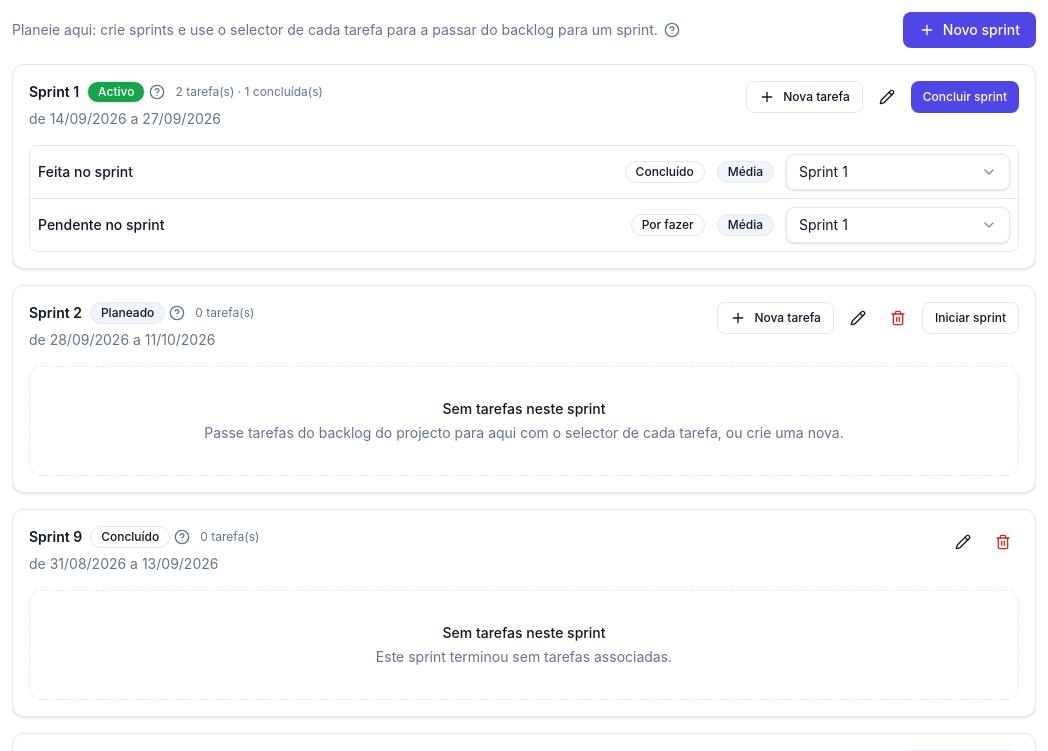
Test: BacklogView › "Iniciar sprint" mostra o erro 422 da API quando já existe um sprint activo
This screenshot has width=1048, height=751.
Click the button "Iniciar sprint" at (970,318), box [922,302,1019,334]
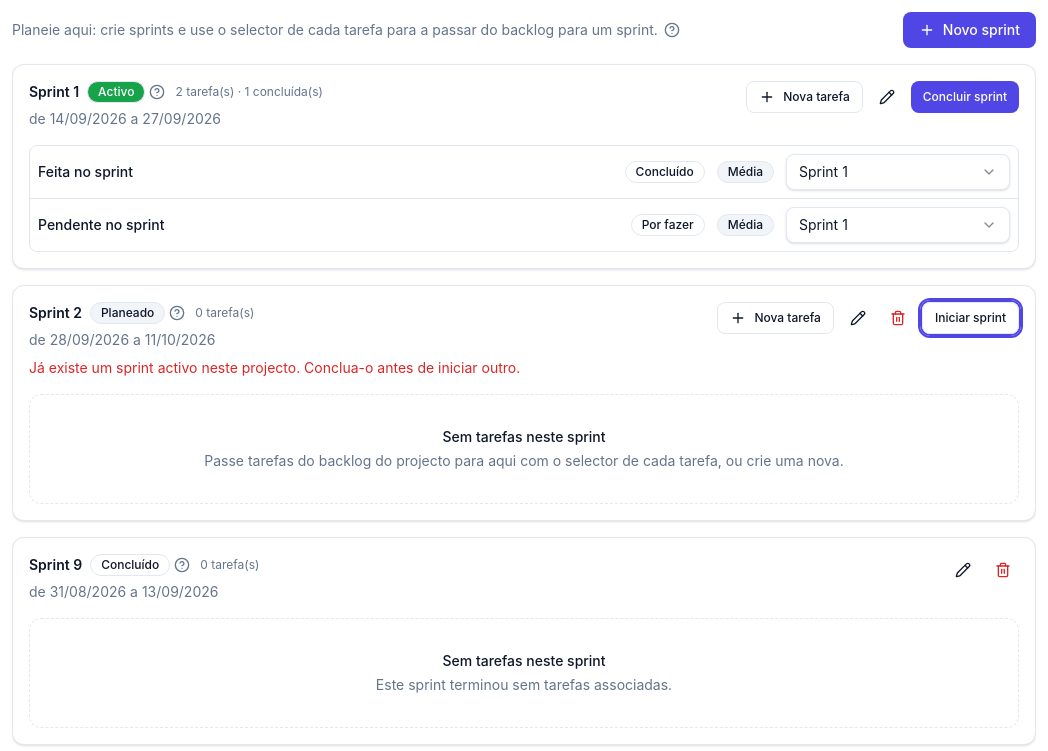
Now the text "Já existe um sprint activo neste projecto. Conclua-o antes de iniciar outro." is shown, box [29,359,520,376]
